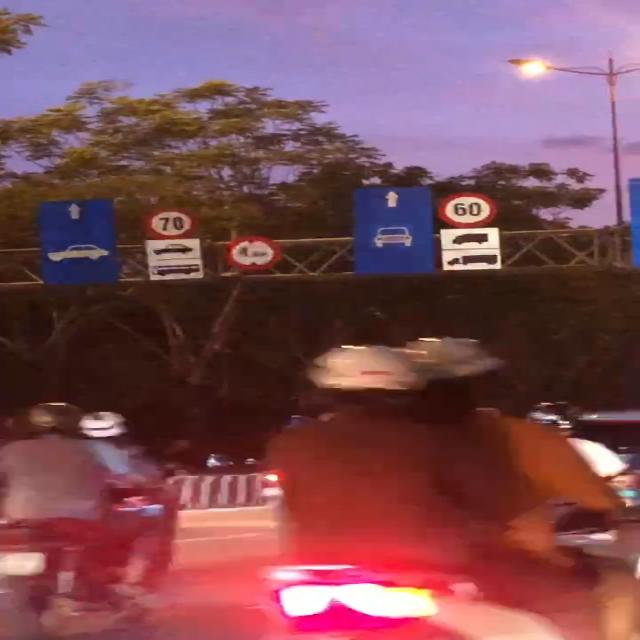Bien bao toc do toi da cho phep: (435, 190, 505, 228), (135, 207, 197, 241)
